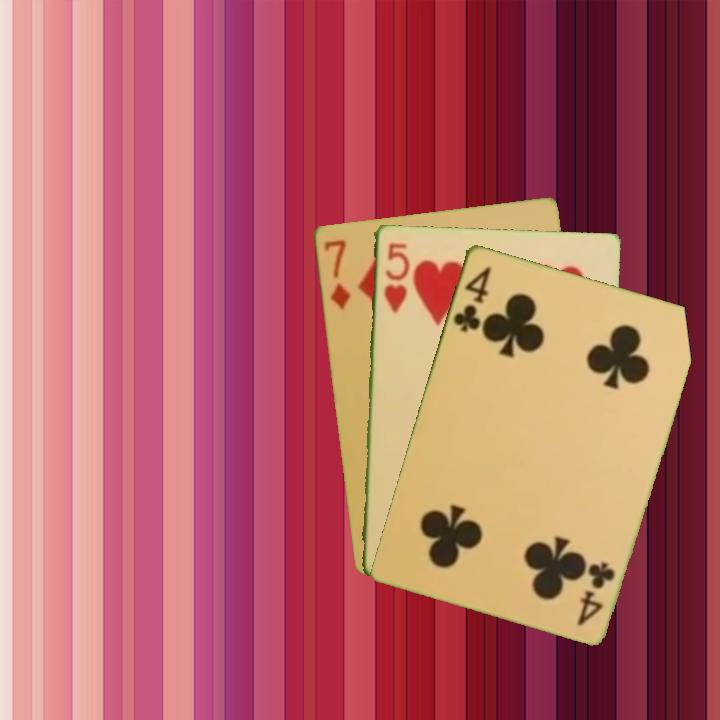4c: (449, 262, 494, 335), (573, 557, 618, 629)
5h: (380, 239, 410, 316)
7d: (320, 235, 353, 312)
